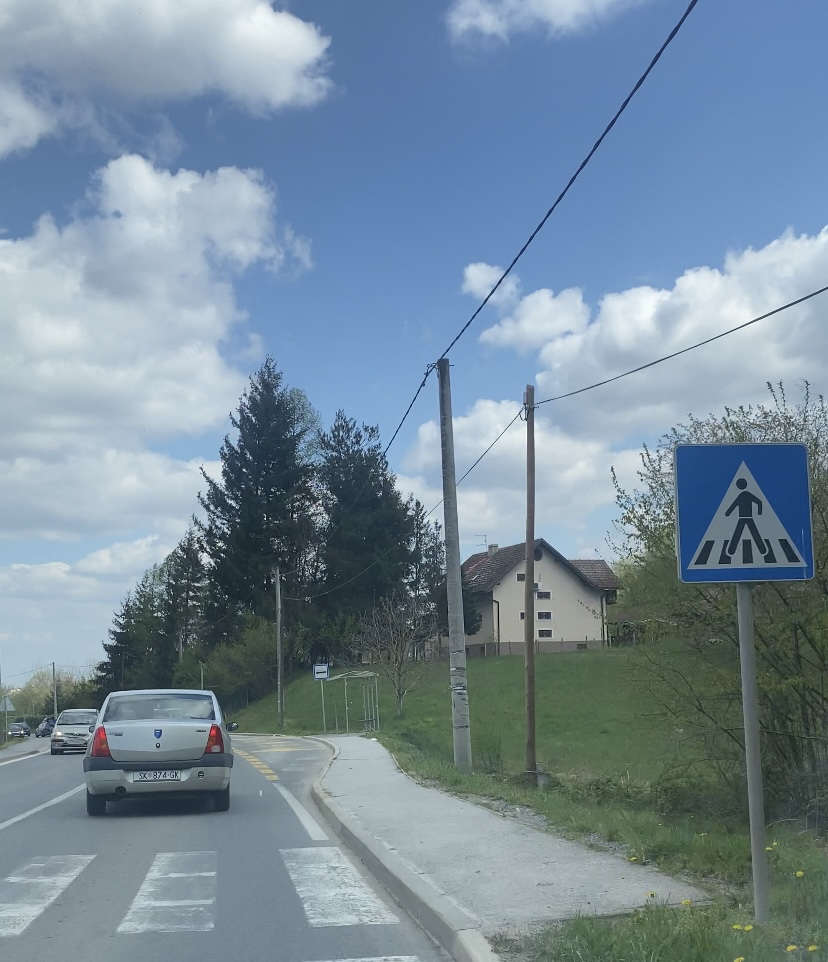Pješački prijelaz: (675, 443, 815, 582)
